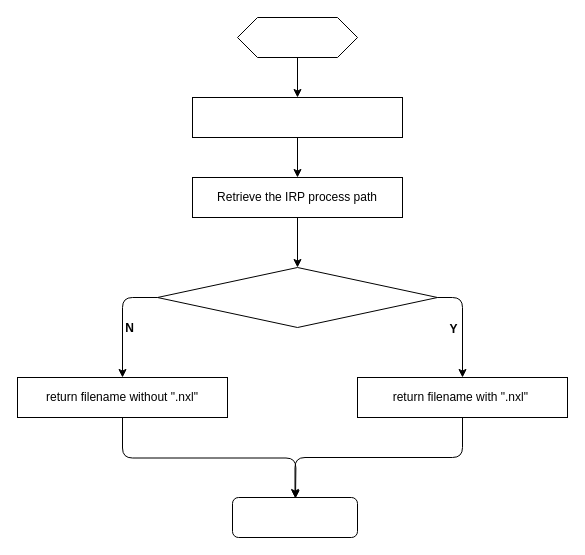
The diagram is 585 pixels wide and 555 high, and some of its shapes have lost their labels. The centre of each missing label's shape, as x and y in pixels:
IRP_MJ_DIRECTORY_CONTROL: point 297,117
Is backup app?: point 297,297
